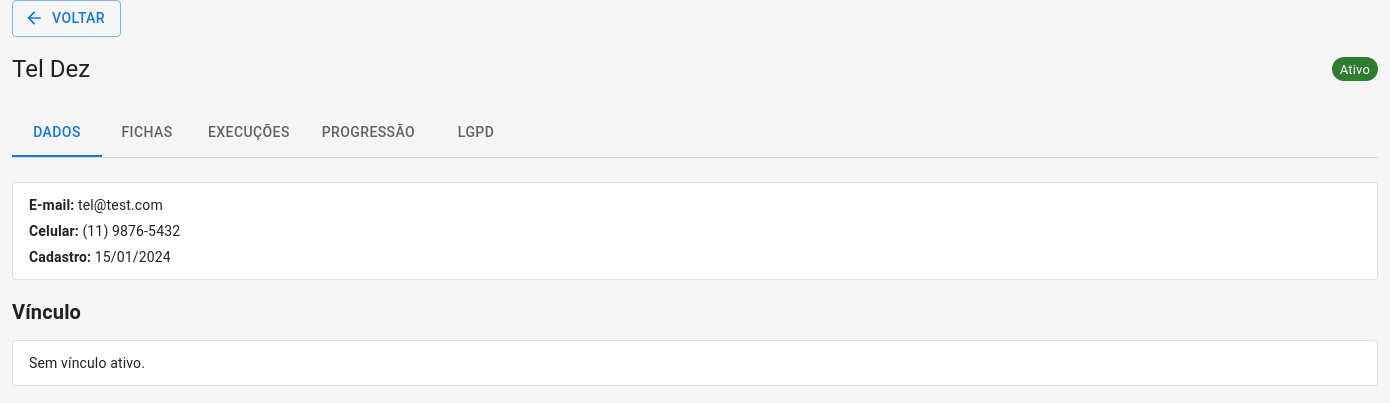
Test: DetalheAlunoAdminPage — progressão com dados › progressão com exercícios → renderiza card de exercício
expect the heading "Tel Dez" is shown: met, box x1=12 y1=52 x2=90 y2=84
Click the tab "Progressão" at (368,132), box x1=306 y1=108 x2=431 y2=156
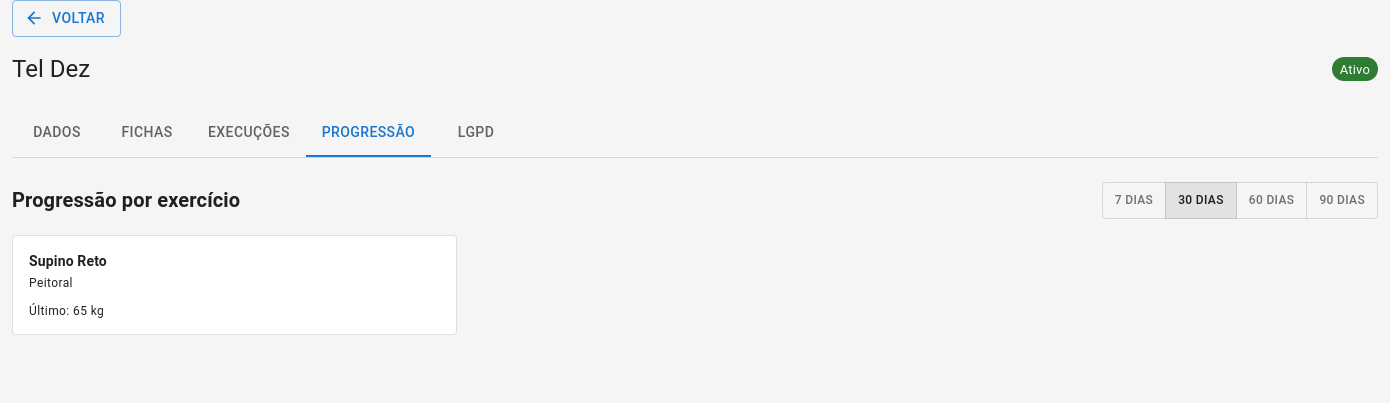
expect the text "Supino Reto" is shown: met, box x1=29 y1=252 x2=107 y2=268
expect the text "Peitoral" is shown: met, box x1=29 y1=276 x2=73 y2=290
expect the text "Último: 65 kg" is shown: met, box x1=29 y1=304 x2=104 y2=318
